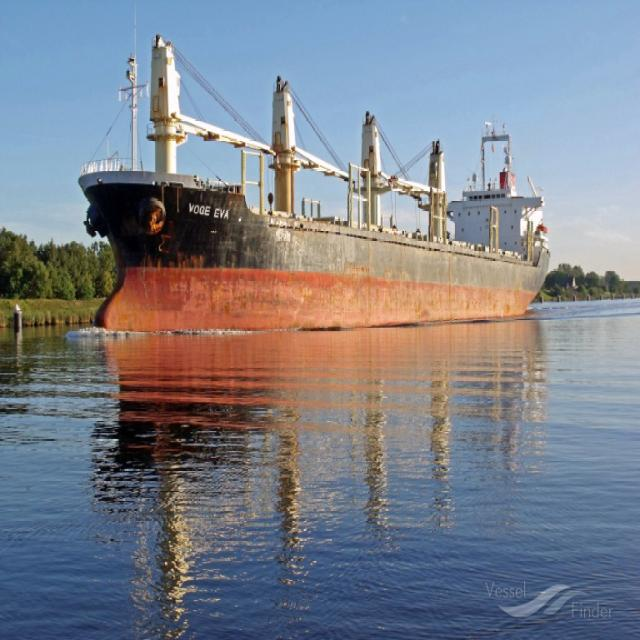OCR: (182, 198, 230, 223)
